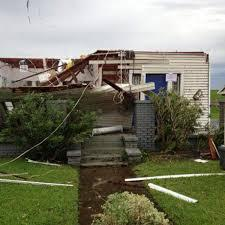destroyed: (2, 48, 220, 158)
